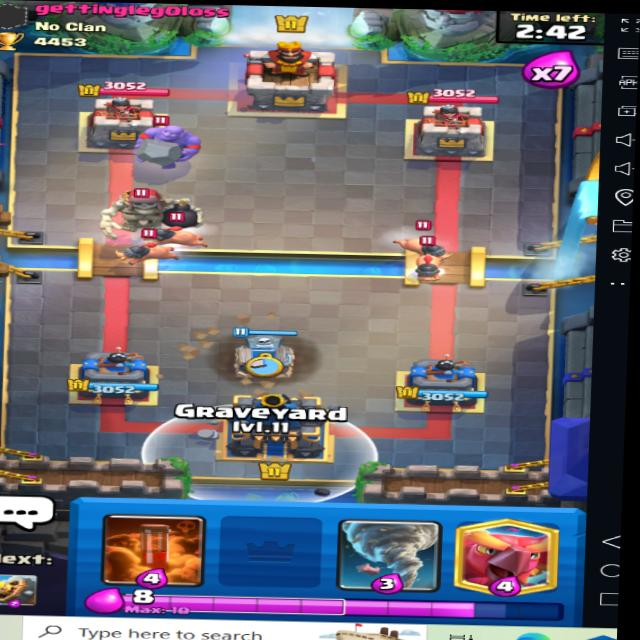Bowler: (128, 110, 204, 169)
Giantskeleton: (97, 186, 205, 239)
Royalhogs: (117, 229, 184, 264), (396, 221, 455, 260), (141, 222, 208, 251), (400, 252, 451, 285)
